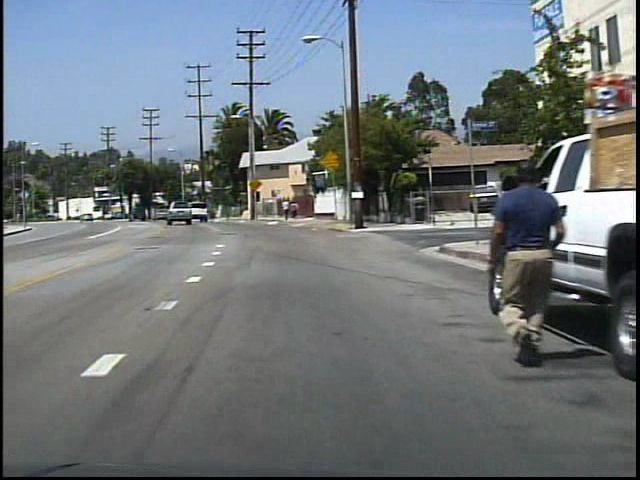person: (480, 157, 558, 367), (280, 197, 291, 221), (289, 199, 299, 221)
